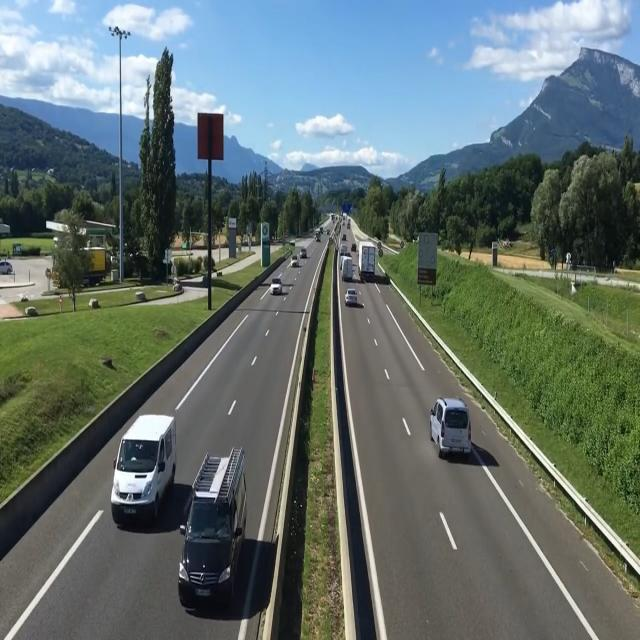car: (182, 442, 253, 618), (112, 413, 172, 528), (431, 393, 473, 462), (344, 282, 361, 310), (268, 277, 283, 298)
truck: (357, 236, 380, 285)
